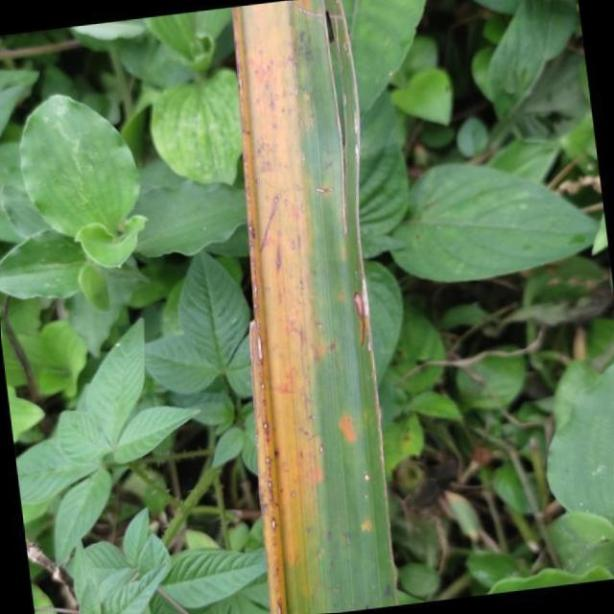Megnesium: (229, 6, 401, 614)
